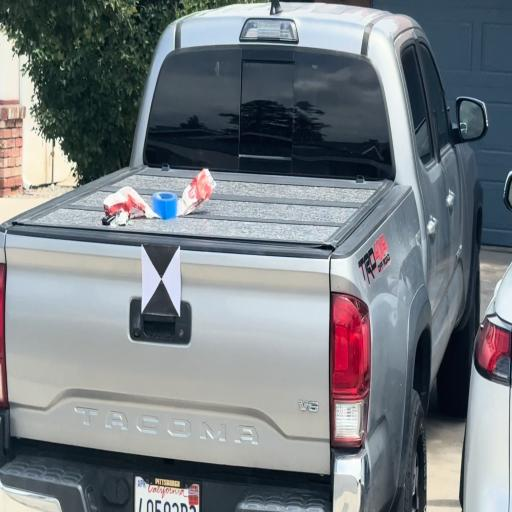target: (141, 245, 181, 317)
